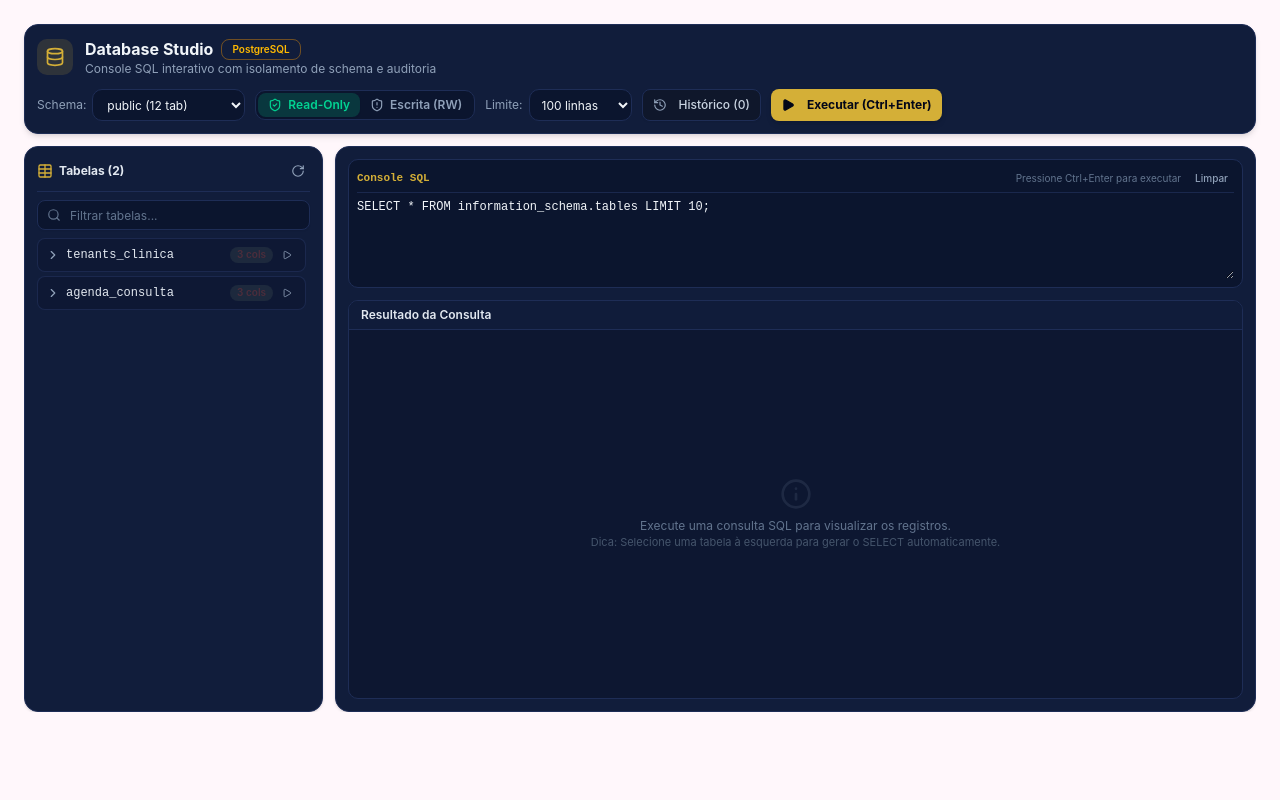
Scenario: Sprint V8 — Frontend: Database Studio & Celery Monitor › Database Studio (SQL Console & Schema Explorer) › deve expandir tabela para exibir dicionário de colunas e chave primária
The width and height of the screenshot is (1280, 800).
Clica na tabela para expandir colunas
Click the text "tenants_clinica". click: x=120, y=255
box: x1=66 y1=247 x2=174 y2=263
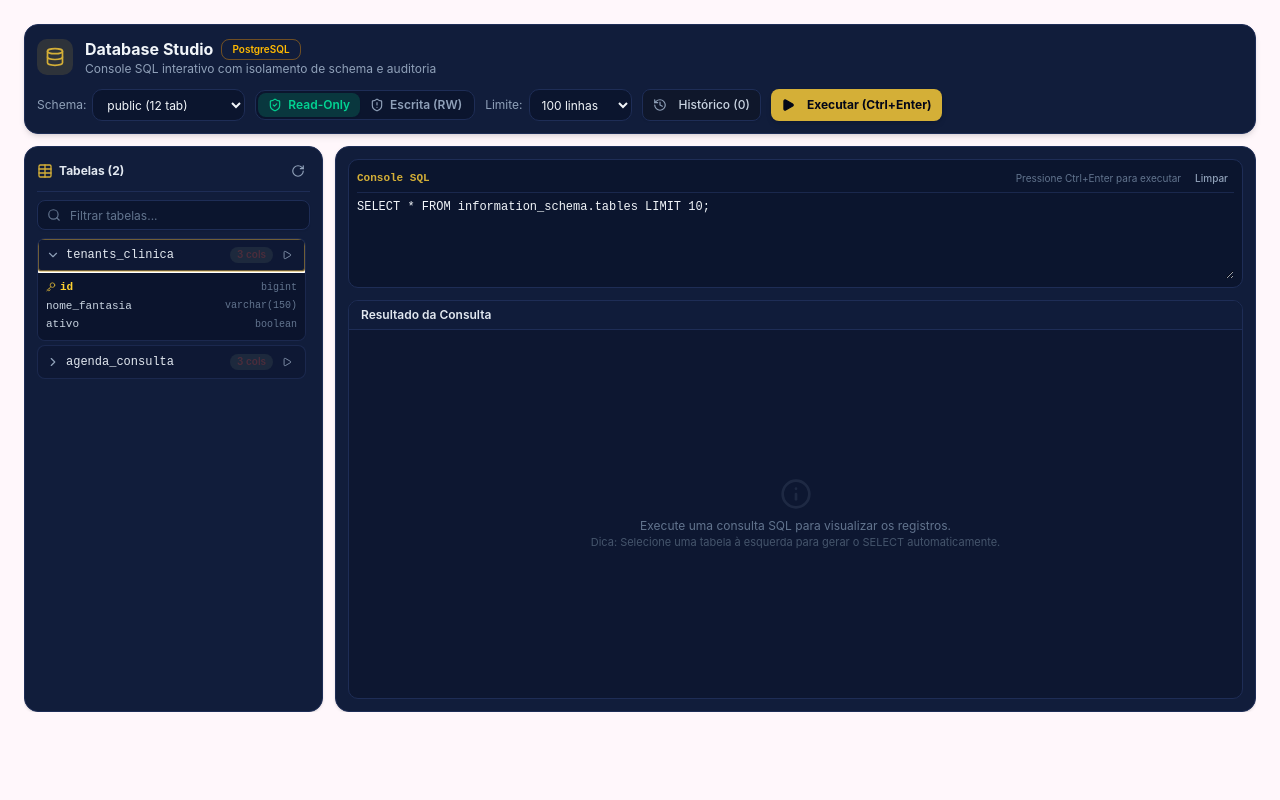
Now the text "nome_fantasia" is shown, box x1=46 y1=299 x2=132 y2=313
Now the text "varchar(150)" is shown, box x1=225 y1=299 x2=297 y2=313
